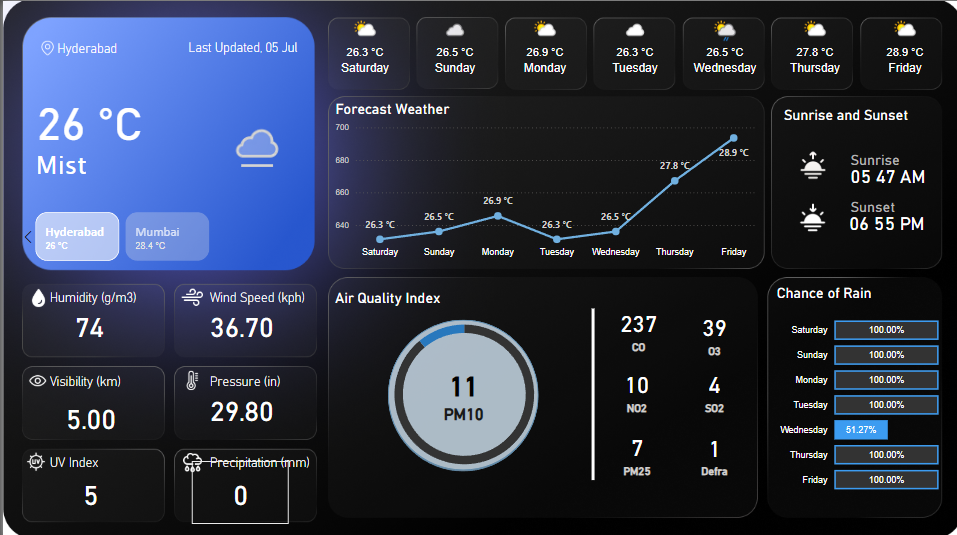

This screenshot's page, from the dashboard's own definition file:
{"tool":"powerbi","page":{"name":"Page 1","canvas":[1280,720],"ordinal":0},"visuals":[{"type":"advancedSlicerVisual","fields":{"Values":["Locations.location.name"]},"box":[17.5,276.2,402.5,75],"z":0},{"type":"shape","box":[36.2,106.2,222.5,112.5],"z":1000},{"type":"shape","box":[36.2,170,403.8,97.5],"z":2000},{"type":"shape","box":[67.5,36.2,110,52.5],"z":3000},{"type":"shape","box":[237.7,35,158,53.1],"z":4000},{"type":"image","box":[26.2,47.5,66.2,28.8],"z":5000},{"type":"cardVisual","fields":{"Data":["Min(current.current.condition.icon)"]},"box":[270.9,133.3,124.9,106.7],"z":6000},{"type":"image","box":[26.7,488.4,39.3,36.5],"z":7000},{"type":"shape","box":[58.9,480,158.6,53.3],"z":8000},{"type":"shape","box":[270.9,367.7,158.6,53.3],"z":9000},{"type":"image","box":[26.7,377.5,42.1,35.1],"z":10000},{"type":"shape","box":[58.9,367.7,158.6,53.3],"z":11000},{"type":"image","box":[230.2,374.7,45,40],"z":12000},{"type":"shape","box":[270.9,480,158.6,53.3],"z":13000},{"type":"shape","box":[270.9,588.1,158.6,53.3],"z":14000},{"type":"shape","box":[58.9,588.1,158.6,53.3],"z":15000},{"type":"image","box":[230.2,595.1,44.9,40.7],"z":16000},{"type":"image","box":[21.1,596.5,44.9,35],"z":17000},{"type":"image","box":[230.2,488.4,44.9,35.1],"z":18000},{"type":"card","fields":{"Values":["Sum(current.current.humidity)"]},"box":[50.5,390.2,130.5,85.6],"z":19000},{"type":"card","fields":{"Values":["Sum(current.current.wind_kph)"]},"box":[252.6,390.2,130.5,85.6],"z":20000},{"type":"card","fields":{"Values":["Sum(current.current.pressure_in)"]},"box":[252.6,502.5,130.5,85.6],"z":21000},{"type":"card","fields":{"Values":["Sum(current.current.precip_mm)"]},"box":[251.2,613.3,130.5,85.6],"z":22000},{"type":"card","fields":{"Values":["Sum(current.current.vis_km)"]},"box":[51.9,510.9,130.5,85.6],"z":23000},{"type":"card","fields":{"Values":["Sum(current.current.uv)"]},"box":[51.9,613.3,130.5,85.6],"z":24000},{"type":"advancedSlicerVisual","fields":{"Values":["forecast_day.Day_Name"]},"box":[422.5,15.4,844.9,101.1],"z":25000},{"type":"lineChart","title":"Forecast Weather","fields":{"Y":["Sum(forecast_day.forecast.forecastday.day.avgtemp_c)"],"Category":["forecast_day.Day_Name"]},"box":[437.9,133.3,572.6,217.5],"z":26000},{"type":"shape","box":[1038.6,133.3,211.9,36.5],"z":27000},{"type":"shape","box":[1047,169.8,221.8,112.3],"z":28000},{"type":"shape","box":[1124.2,178.2,124.9,68.8],"z":29000},{"type":"shape","box":[1124.6,240.6,125.3,68.5],"z":30000},{"type":"shape","box":[1124.2,200.7,124.9,68.8],"z":31000},{"type":"shape","box":[1122.9,262.3,125.3,68.5],"z":32000},{"type":"image","box":[1049.8,193.7,60.4,50.5],"z":33000},{"type":"image","box":[1049.8,263.9,60.4,50.5],"z":34000},{"type":"hundredPercentStackedBarChart","title":"Chance of Rain","fields":{"Category":["forecast_day.Day_Name"],"Y":["Sum(forecast_day.forecast.forecastday.day.daily_chance_of_rain)","_Measures.left_value_rain"]},"box":[1026,377.5,226,291.9],"z":35000},{"type":"shape","box":[440.7,377.5,211.9,36.5],"z":36000},{"type":"card","fields":{"Values":["Sum(current.current.air_quality.co)"]},"box":[800,400,95.4,75.8],"z":37000},{"type":"card","fields":{"Values":["Sum(current.current.air_quality.gb-defra-index)"]},"box":[906.7,568.4,84.2,70.2],"z":38000},{"type":"shape","box":[513,424.4,200.5,202.2],"z":38250},{"type":"shape","box":[513.7,425.3,200.7,200.7],"z":38500},{"type":"card","fields":{"Values":["Sum(current.current.air_quality.no2)"]},"box":[797.2,481.4,96.8,74.4],"z":39000},{"type":"card","fields":{"Values":["Sum(current.current.air_quality.o3)"]},"box":[906.7,400,84.2,85.6],"z":40000},{"type":"card","fields":{"Values":["Sum(current.current.air_quality.pm2_5)"]},"box":[800,565.6,91.2,75.8],"z":42000},{"type":"card","fields":{"Values":["Sum(current.current.air_quality.so2)"]},"box":[906.7,481.4,84.2,74.4],"z":43000},{"type":"shape","box":[738.2,409.8,96.8,228.8],"z":44000},{"type":"donutChart","fields":{"Y":["_Measures.left_pm10","Sum(current.current.air_quality.pm10)"]},"box":[482.8,402.8,263.9,242.8],"z":45000},{"type":"card","fields":{"Values":["Sum(current.current.air_quality.pm10)"]},"box":[548.1,467.9,132,108.6],"z":45500}]}

Visuals, with their boxes in screenshot pixels (x1, y1, x2, y2), scaled from the page's 1280x720 canvas onto the 957x535 screenshot:
advancedSlicerVisual - Locations.location.name: [left=13, top=205, right=314, bottom=261]
shape: [left=27, top=79, right=193, bottom=163]
shape: [left=27, top=126, right=329, bottom=199]
shape: [left=50, top=27, right=133, bottom=66]
shape: [left=178, top=26, right=296, bottom=65]
image: [left=20, top=35, right=69, bottom=57]
cardVisual - Min(current.current.condition.icon): [left=203, top=99, right=296, bottom=178]
image: [left=20, top=363, right=49, bottom=390]
shape: [left=44, top=357, right=163, bottom=396]
shape: [left=203, top=273, right=321, bottom=313]
image: [left=20, top=281, right=51, bottom=307]
shape: [left=44, top=273, right=163, bottom=313]
image: [left=172, top=278, right=206, bottom=308]
shape: [left=203, top=357, right=321, bottom=396]
shape: [left=203, top=437, right=321, bottom=477]
shape: [left=44, top=437, right=163, bottom=477]
image: [left=172, top=442, right=206, bottom=472]
image: [left=16, top=443, right=49, bottom=469]
image: [left=172, top=363, right=206, bottom=389]
card - Sum(current.current.humidity): [left=38, top=290, right=135, bottom=354]
card - Sum(current.current.wind_kph): [left=189, top=290, right=286, bottom=354]
card - Sum(current.current.pressure_in): [left=189, top=373, right=286, bottom=437]
card - Sum(current.current.precip_mm): [left=188, top=456, right=285, bottom=519]
card - Sum(current.current.vis_km): [left=39, top=380, right=136, bottom=443]
card - Sum(current.current.uv): [left=39, top=456, right=136, bottom=519]
advancedSlicerVisual - forecast_day.Day_Name: [left=316, top=11, right=948, bottom=87]
"Forecast Weather" lineChart: [left=327, top=99, right=756, bottom=261]
shape: [left=777, top=99, right=935, bottom=126]
shape: [left=783, top=126, right=949, bottom=210]
shape: [left=841, top=132, right=934, bottom=184]
shape: [left=841, top=179, right=934, bottom=230]
shape: [left=841, top=149, right=934, bottom=200]
shape: [left=840, top=195, right=933, bottom=246]
image: [left=785, top=144, right=830, bottom=181]
image: [left=785, top=196, right=830, bottom=234]
"Chance of Rain" hundredPercentStackedBarChart: [left=767, top=281, right=936, bottom=497]
shape: [left=329, top=281, right=488, bottom=308]
card - Sum(current.current.air_quality.co): [left=598, top=297, right=669, bottom=354]
card - Sum(current.current.air_quality.gb-defra-index): [left=678, top=422, right=741, bottom=475]
shape: [left=384, top=315, right=533, bottom=466]
shape: [left=384, top=316, right=534, bottom=465]
card - Sum(current.current.air_quality.no2): [left=596, top=358, right=668, bottom=413]
card - Sum(current.current.air_quality.o3): [left=678, top=297, right=741, bottom=361]
card - Sum(current.current.air_quality.pm2_5): [left=598, top=420, right=666, bottom=477]
card - Sum(current.current.air_quality.so2): [left=678, top=358, right=741, bottom=413]
shape: [left=552, top=305, right=624, bottom=475]
donutChart - _Measures.left_pm10 x Sum(current.current.air_quality.pm10): [left=361, top=299, right=558, bottom=480]
card - Sum(current.current.air_quality.pm10): [left=410, top=348, right=508, bottom=428]
